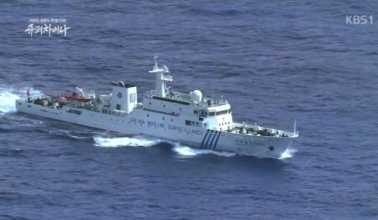warship: (13, 53, 299, 163)
